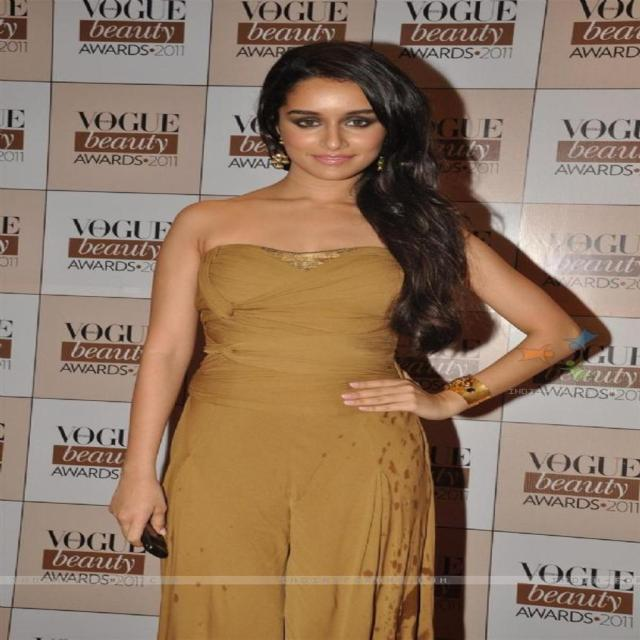Face: (268, 76, 400, 186)
